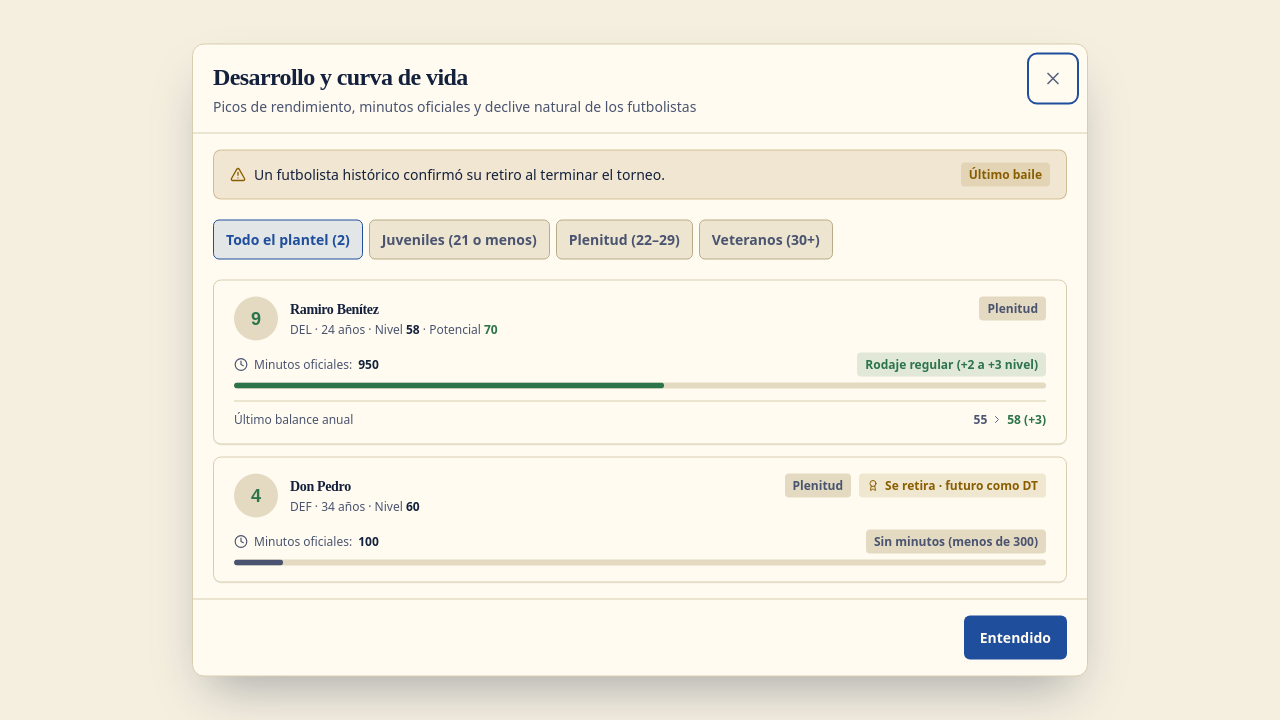
Scenario: modales del plantel (escritorio) › PlayerEvolutionModal filtra por etapa y muestra retiros y último balance
Expected: the heading "Ramiro Benítez" is shown, x1=290 y1=302 x2=379 y2=316
Expected: the text "Se retira · futuro como DT" is shown, x1=859 y1=474 x2=1046 y2=498
Click the radio button labelled "Veteranos (30+)".
click(766, 240)  # box x1=699 y1=220 x2=833 y2=260
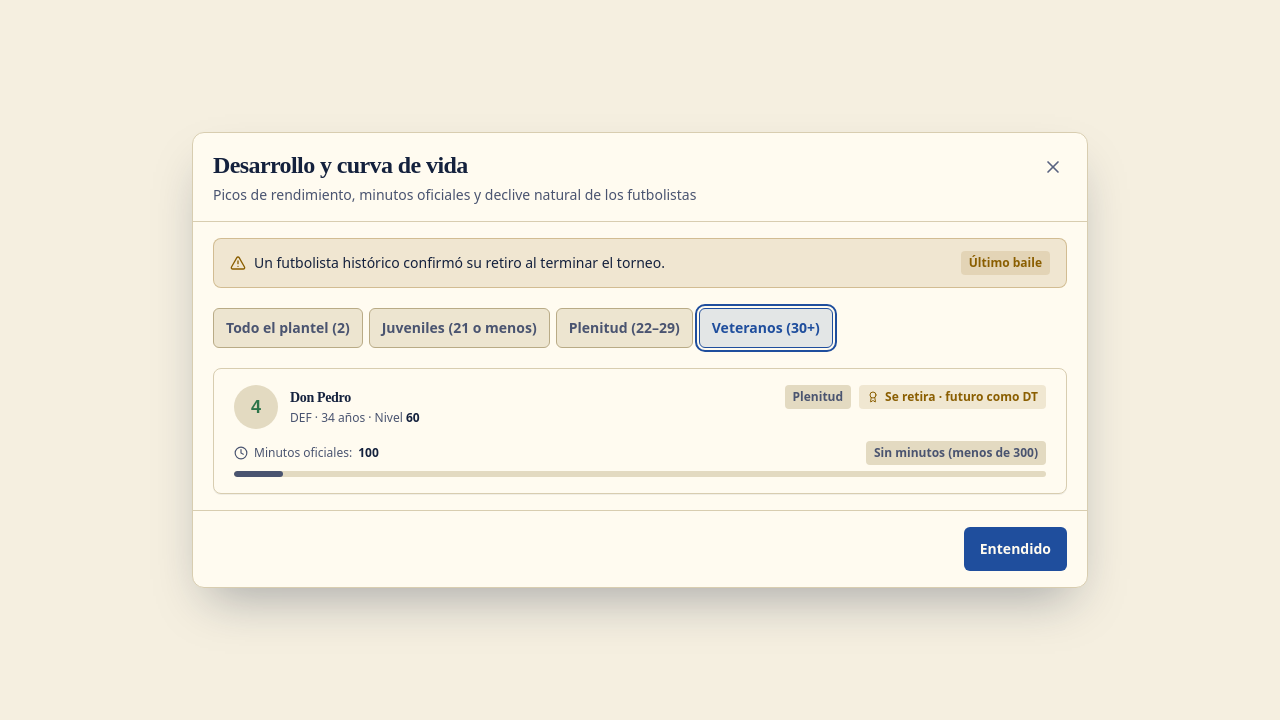
Expected: the heading "Don Pedro" is shown, x1=290 y1=390 x2=351 y2=405
Now the heading "Ramiro Benítez" is gone
